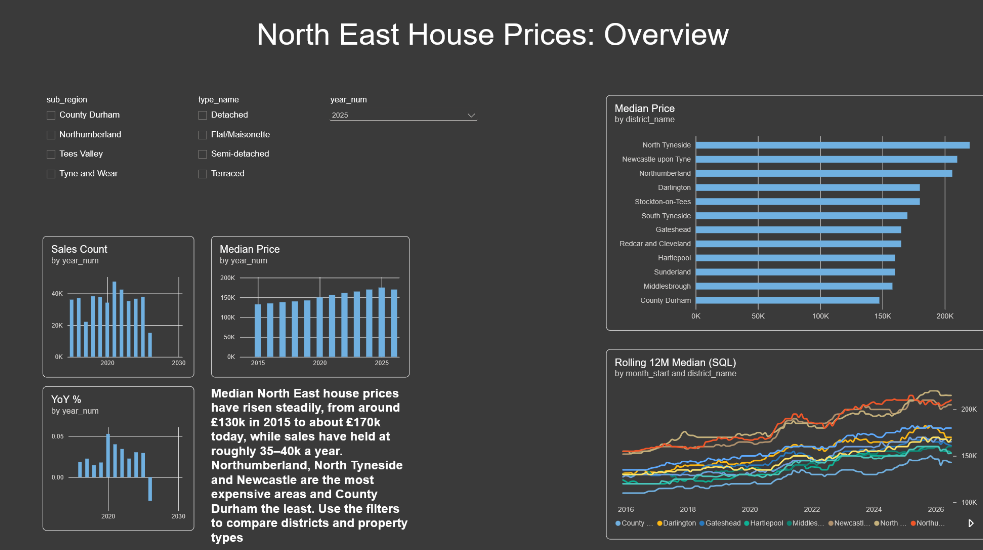

The dashboard page shown, as its layout file describes it:
{"tool":"powerbi","page":{"name":"Overview","canvas":[1920,1080],"ordinal":0},"visuals":[{"type":"textbox","box":[439.1,36.5,1041.7,83.2],"z":0},{"type":"slicer","fields":{"Values":["dw dim_location.sub_region"]},"box":[83.8,187.5,192.9,179.6],"z":1},{"type":"slicer","fields":{"Values":["dw dim_property_type.type_name"]},"box":[379.1,187.5,300.6,186.2],"z":2},{"type":"slicer","fields":{"Values":["dw dim_date.year_num"]},"box":[635.8,187.5,300.6,179.6],"z":3},{"type":"clusteredColumnChart","fields":{"Category":["dw dim_date.year_num"],"Y":["_Measures.YoY %"]},"box":[83.8,754.1,295.3,280.6],"z":4},{"type":"clusteredColumnChart","fields":{"Category":["dw dim_date.year_num"],"Y":["_Measures.Median Price"]},"box":[412.3,461.5,385.7,275.3],"z":5},{"type":"clusteredColumnChart","fields":{"Category":["dw dim_date.year_num"],"Y":["_Measures.Sales Count"]},"box":[83.8,461.5,295.3,275.3],"z":6},{"type":"lineChart","fields":{"Category":["dw agg_district_rolling12.month_start"],"Series":["dw dim_location.district_name"],"Y2":["_Measures.Rolling 12M Median (SQL)"]},"box":[1179.8,682.3,740.8,369.8],"z":7},{"type":"clusteredBarChart","fields":{"Category":["dw dim_location.district_name"],"Y":["_Measures.Median Price"]},"box":[1179.8,187.5,740.8,458.9],"z":8},{"type":"textbox","box":[84,0,193,150],"z":9},{"type":"textbox","box":[277,0,150,150],"z":10},{"type":"textbox","box":[1481,0,439,150],"z":11},{"type":"textbox","box":[412.3,754.1,385.7,325.9],"z":12}]}

Visuals, with their boxes in screenshot pixels (x1, y1, x2, y2), scaled from the page's 1920x1080 canvas onto the 983x550 screenshot:
textbox: (225,19,758,61)
slicer - dw dim_location.sub_region: (43,95,142,187)
slicer - dw dim_property_type.type_name: (194,95,348,190)
slicer - dw dim_date.year_num: (326,95,479,187)
clusteredColumnChart - dw dim_date.year_num x _Measures.YoY %: (43,384,194,527)
clusteredColumnChart - dw dim_date.year_num x _Measures.Median Price: (211,235,409,375)
clusteredColumnChart - dw dim_date.year_num x _Measures.Sales Count: (43,235,194,375)
lineChart - dw agg_district_rolling12.month_start x dw dim_location.district_name: (604,347,982,536)
clusteredBarChart - dw dim_location.district_name x _Measures.Median Price: (604,95,982,329)
textbox: (43,0,142,76)
textbox: (142,0,219,76)
textbox: (758,0,982,76)
textbox: (211,384,409,549)
